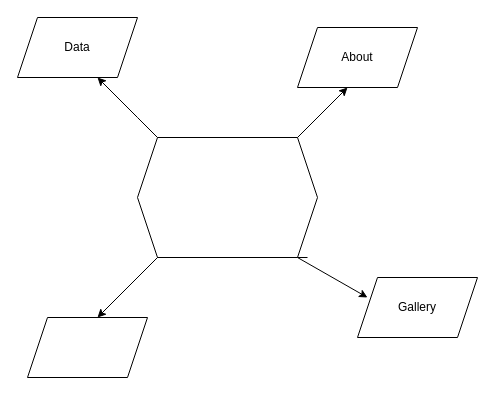
Some shapes in this 495 by 395 pixel diagram are drawn without their labels. Here are the shapes that lost their labels. From the top down, the centre of each, then its label:
At point 227,197: "Index.html".
At point 87,347: "Contact".
